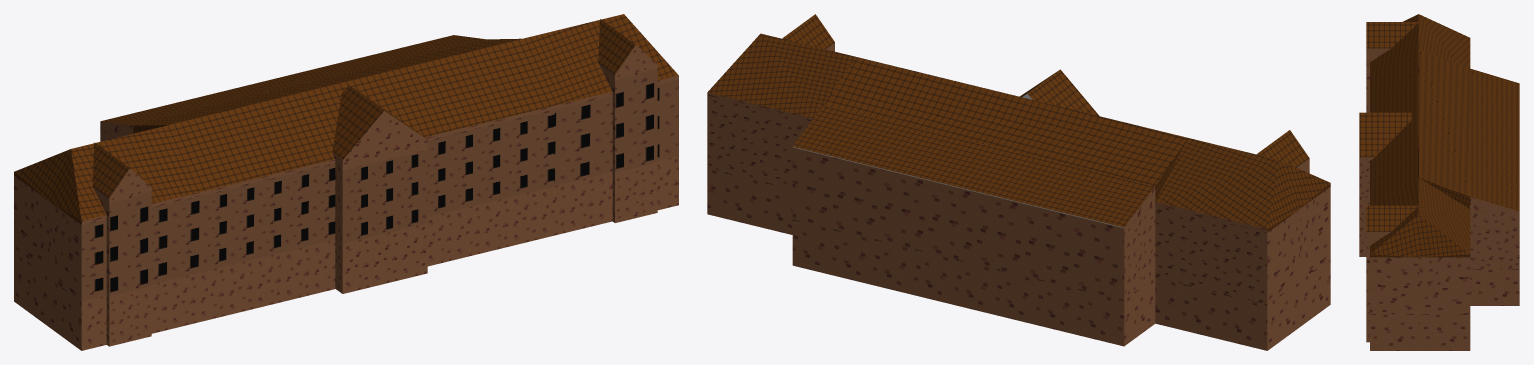
The model's file is brock_origin.fbx.
3 views of the same model, side by side, from view 1: azimuth 30°, elevation 25°; view 2: azimuth 150°, elevation 25°; view 3: azimuth 270°, elevation 25° (orthographic). The views are drawn at different scales.
Visible parts, largest first — view 1: Brock; view 2: Brock; view 3: Brock.
Boxes of the visible parts, box(x1,y1,x2,y2) form: Brock: box(14, 14, 678, 350); Brock: box(707, 14, 1330, 350); Brock: box(1359, 14, 1519, 350).
Size of the model in its own units: 1954 by 542 by 612.
5 materials, 3 textured.
